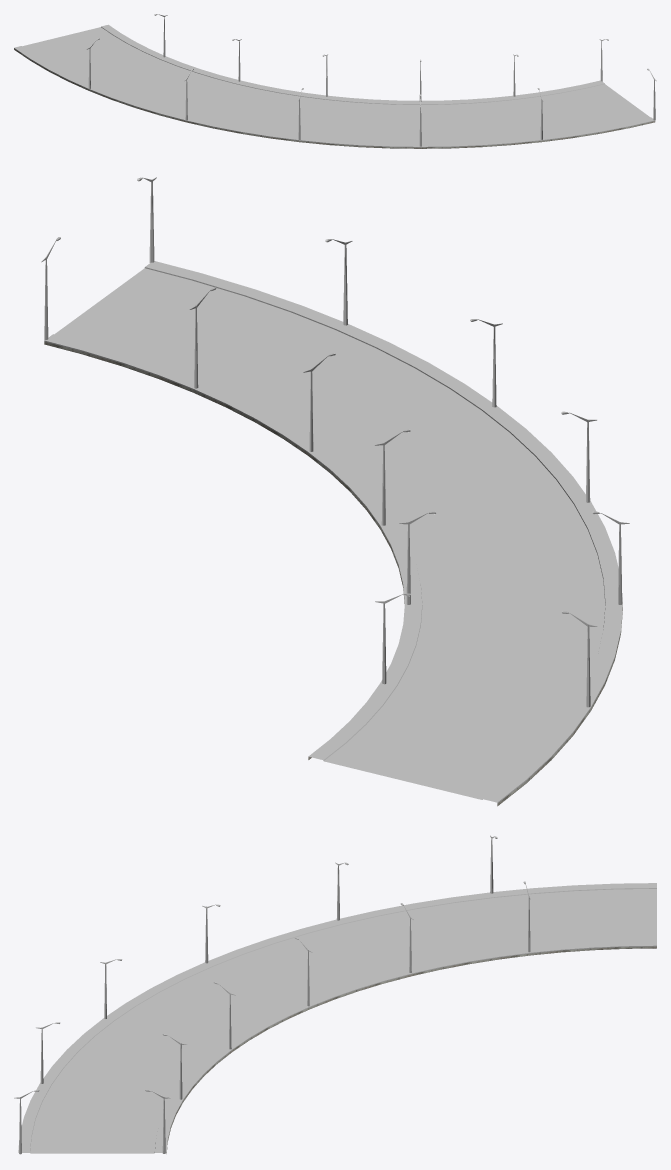
The model's file is Big_Road_90.FBX.
The picture shows the model from 3 angles, top to bottom: view 1: azimuth 30°, elevation 25°; view 2: azimuth 150°, elevation 25°; view 3: azimuth 270°, elevation 25°; orthographic projection. The views are drawn at different scales.
Visible parts, largest first — view 1: Big_Road_90, city_light017; view 2: Big_Road_90, city_light017; view 3: Big_Road_90, city_light017.
Part boxes in pixels (box(x1,y1,x2,y2)): Big_Road_90: box(14, 24, 655, 148); city_light017: box(86, 14, 656, 146); Big_Road_90: box(44, 261, 622, 806); city_light017: box(41, 177, 629, 707); Big_Road_90: box(18, 883, 656, 1153); city_light017: box(14, 835, 530, 1154).
Size of the model in its own units: 9779 by 1104 by 9822.
